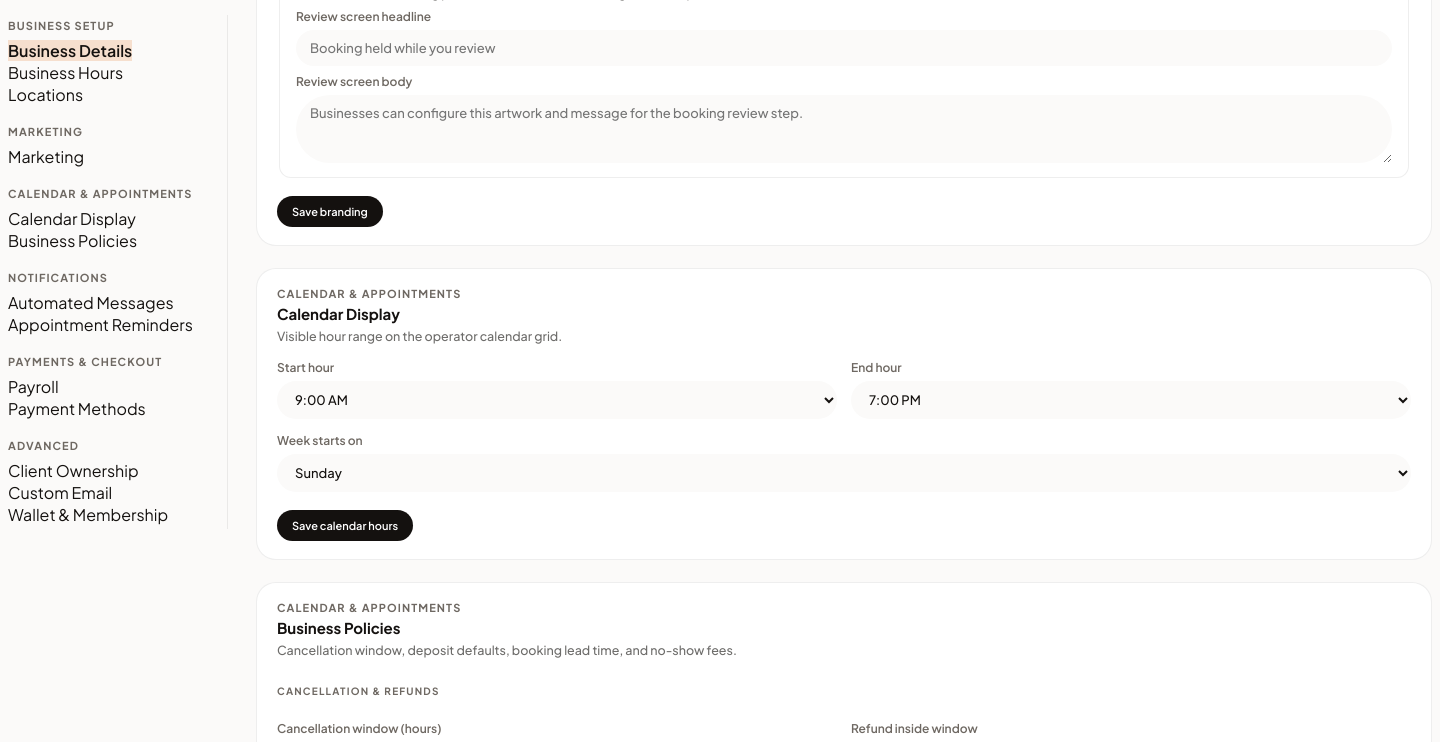
Test case: SettingsPage › saves calendar display hours via platformApi.updateTenantSettings
This screenshot has width=1440, height=742.
(page scrolled)
Select "8:00 AM" in the dropdown labelled "Start hour" at (557, 400), box [277,381,837,419]
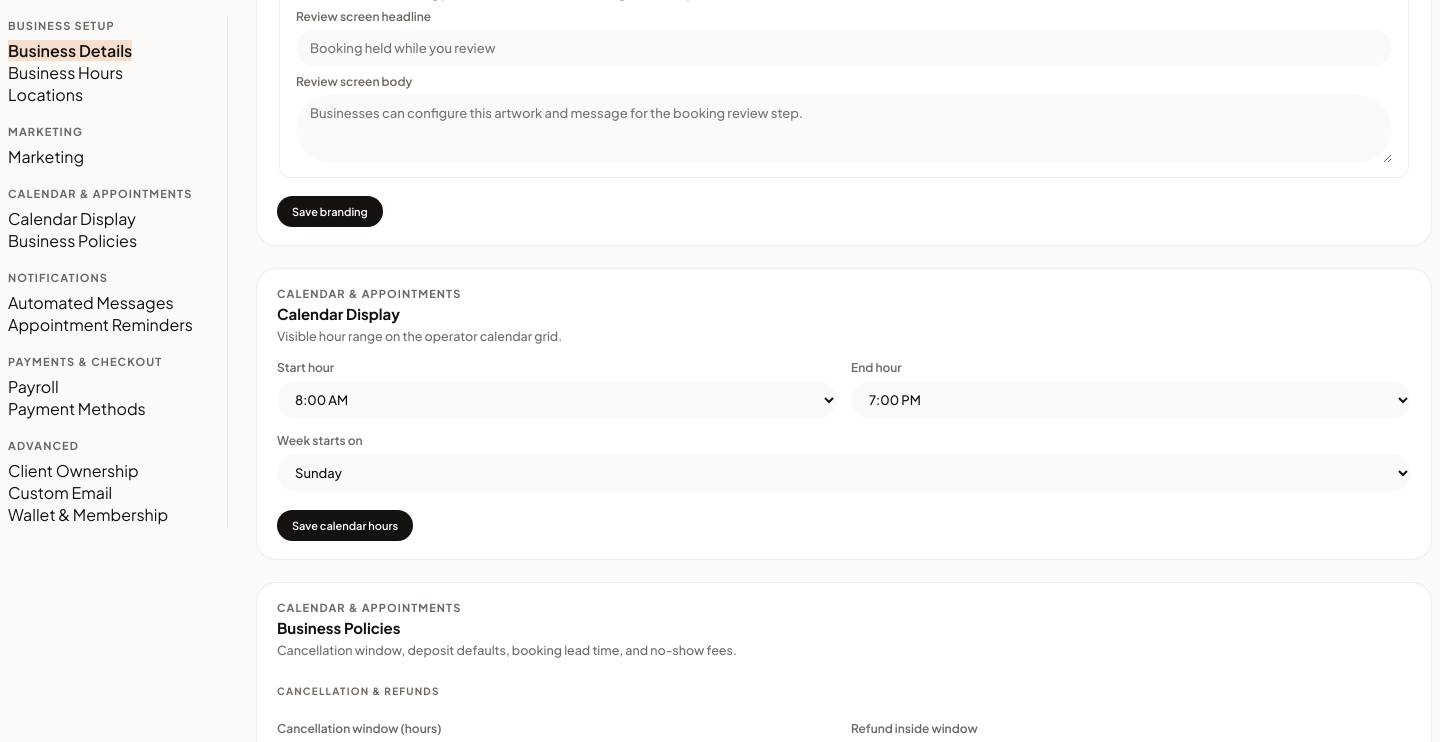
Select "8:00 PM" in the dropdown labelled "End hour" at (1131, 400), box [851,381,1411,419]
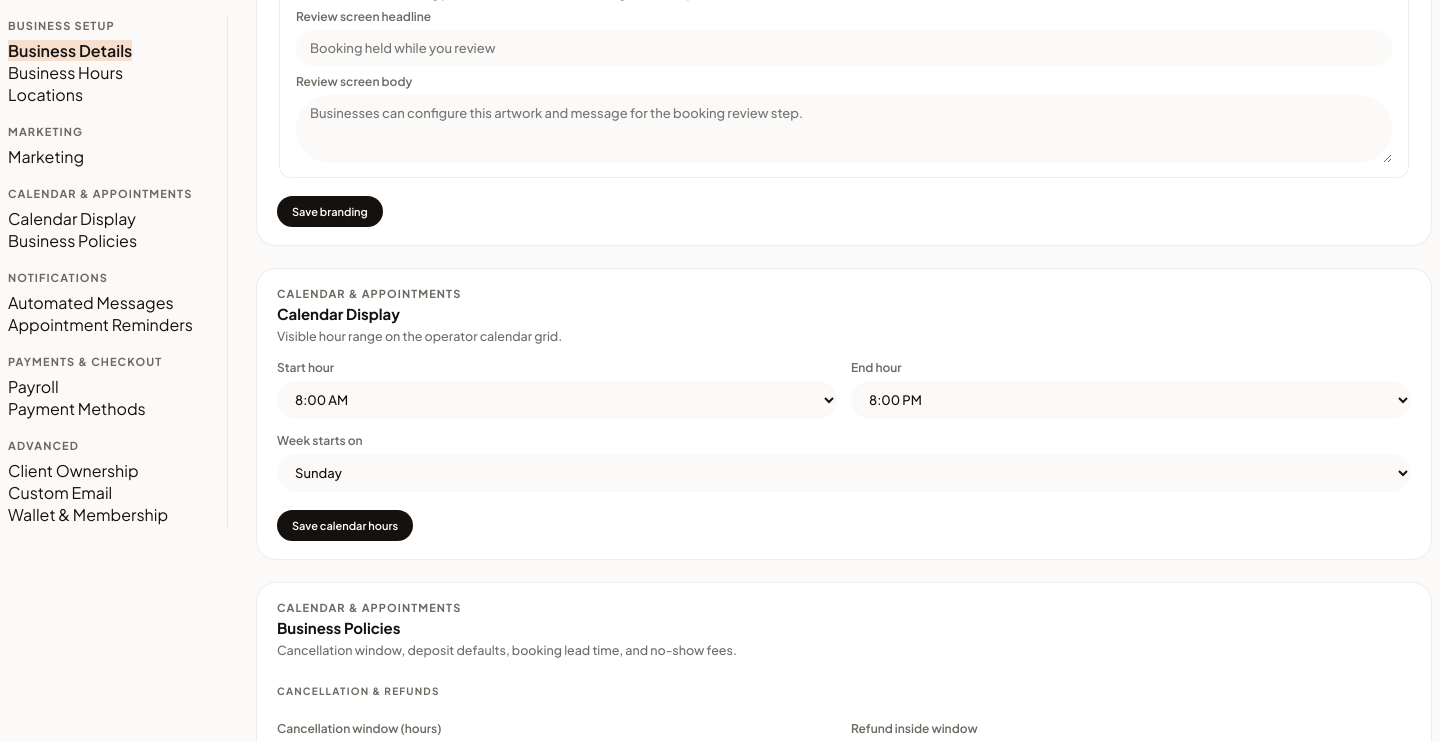
Click the button "Save calendar hours" at (345, 526), box [277,510,413,541]
(page scrolled)
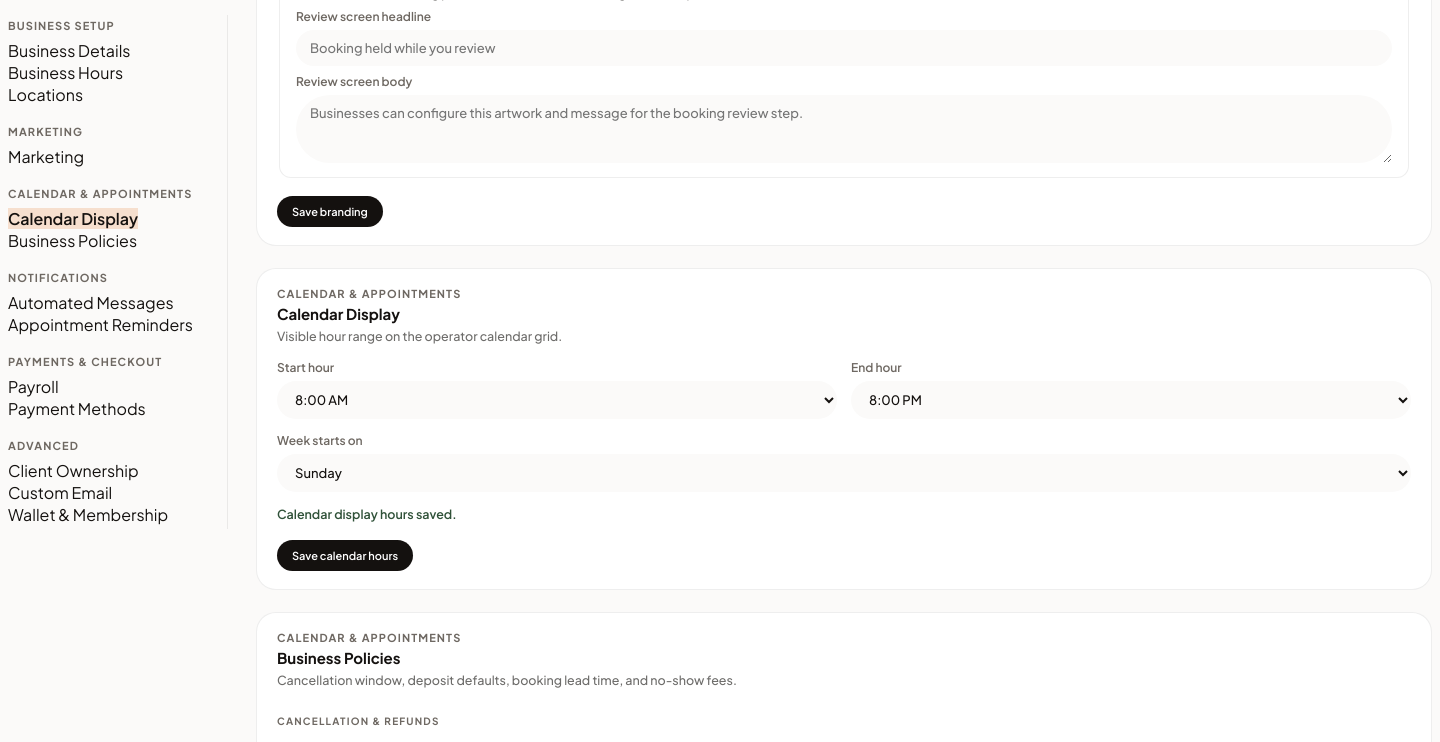
Expected: the text "Calendar display hours saved." is shown, [277,506,456,522]
